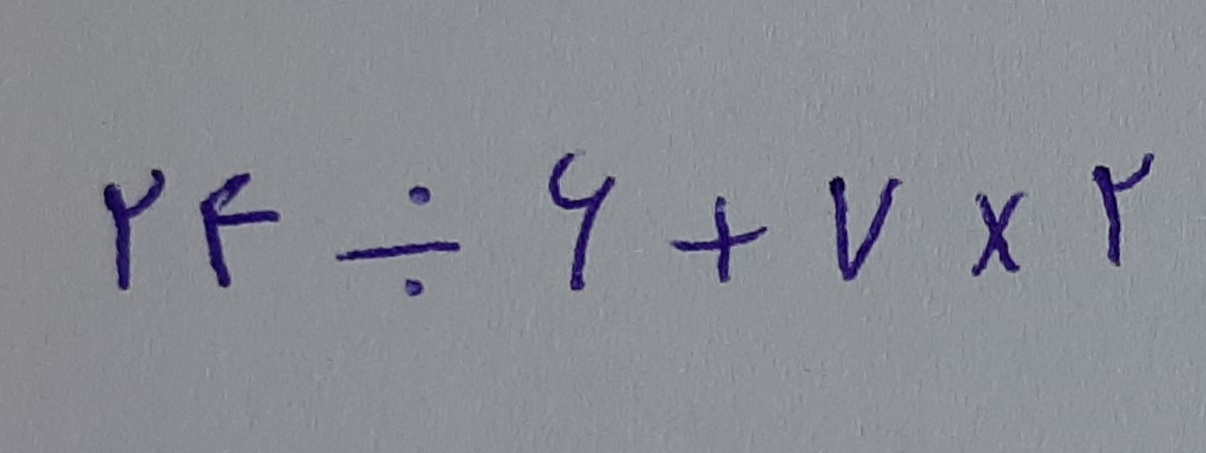character: (336, 186, 462, 302), (201, 171, 280, 284), (550, 151, 615, 288), (672, 197, 769, 284), (105, 166, 164, 292), (830, 177, 903, 266), (1094, 151, 1147, 264), (970, 187, 1026, 279)
